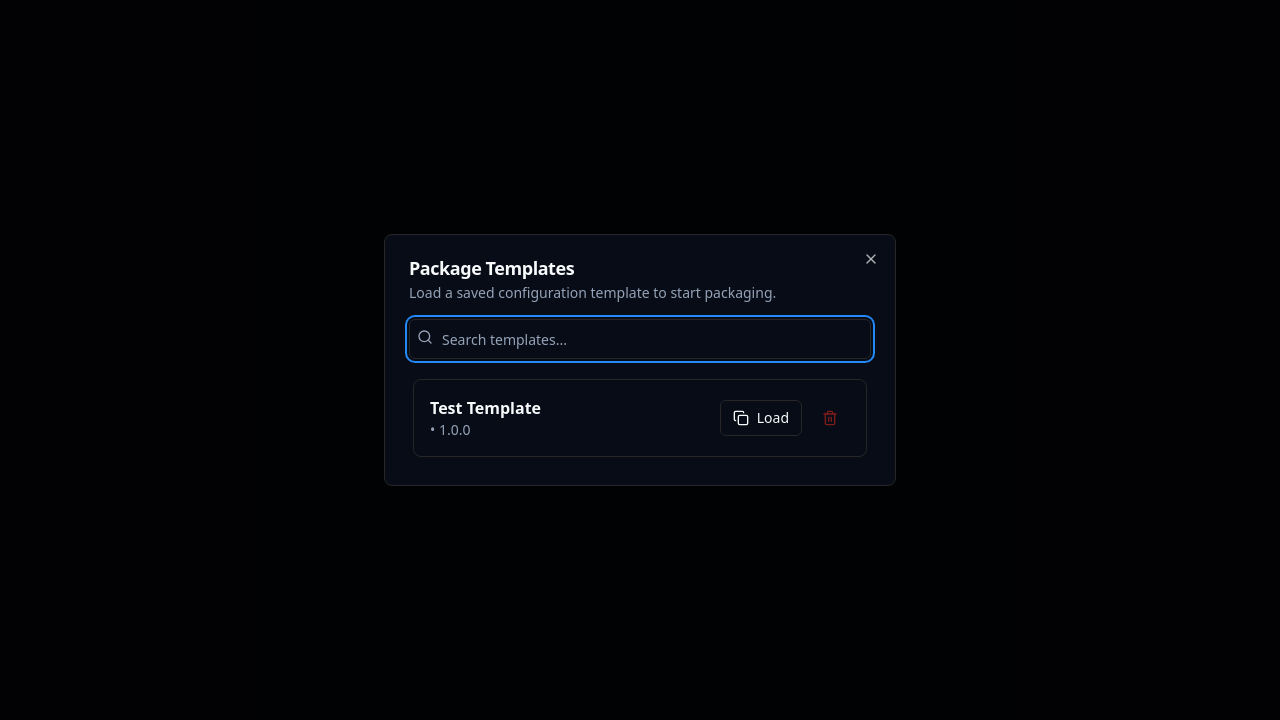
Test: TemplatesManager › deletes a template
The image size is (1280, 720).
Expected: the heading "Test Template" is shown, left=430, top=397, right=541, bottom=419
Click the button without text in the row of "Test Template" at (830, 418), box left=810, top=400, right=850, bottom=436
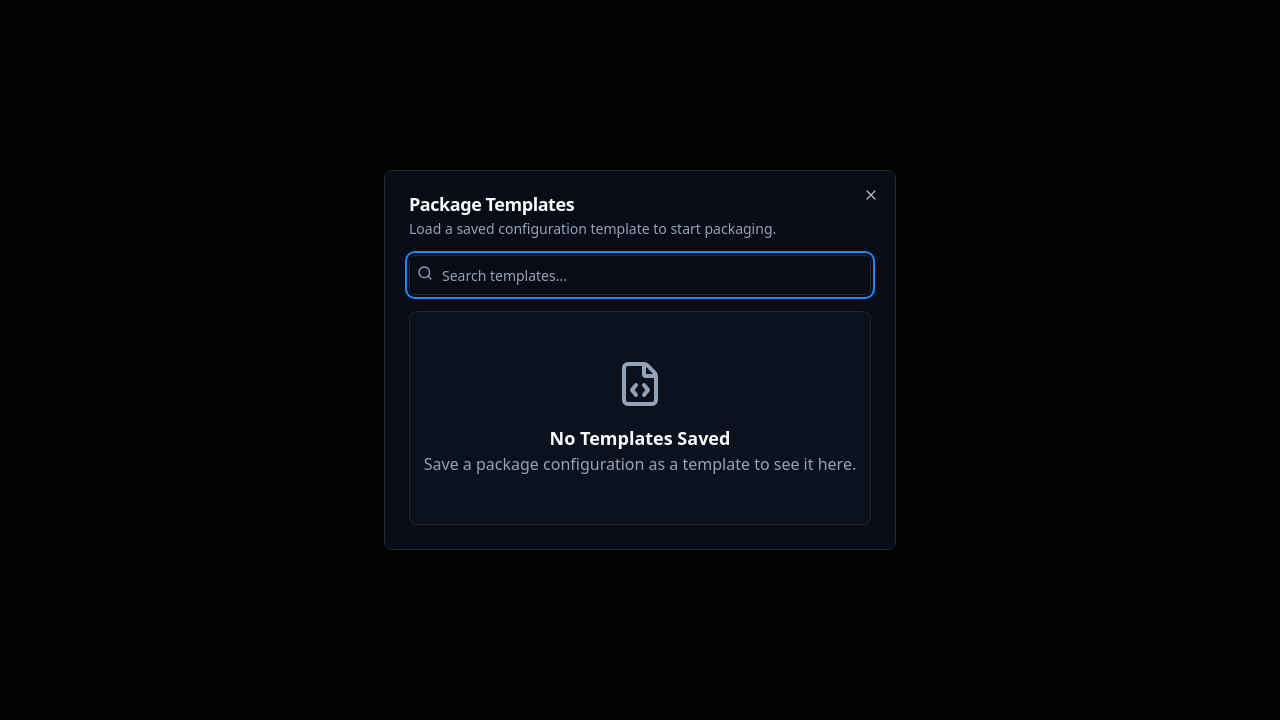
Expected: the heading "Test Template" is gone
Expected: the heading "No Templates Saved" is shown, left=550, top=426, right=730, bottom=450
